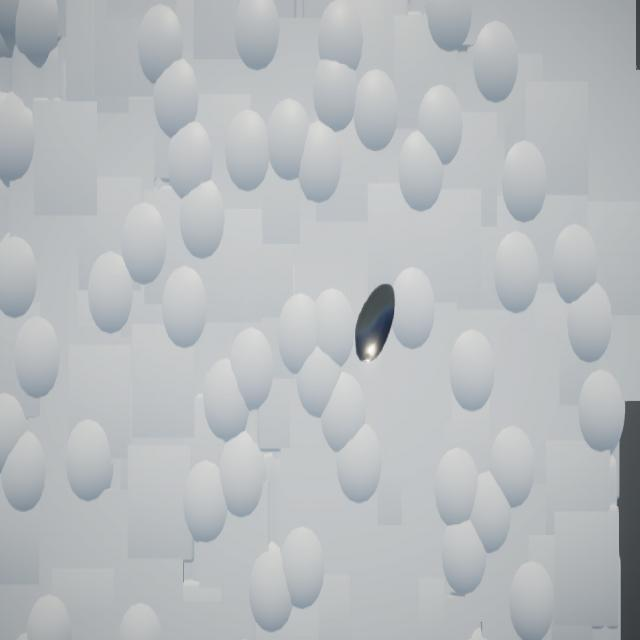top_spoon: (356, 285, 396, 363)
